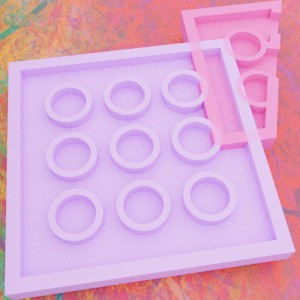lego: (4, 38, 295, 300), (179, 0, 281, 157)
